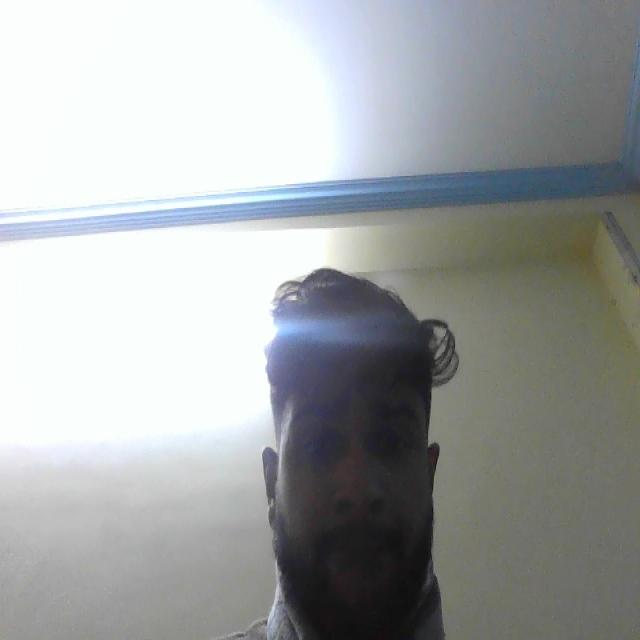real: (257, 264, 450, 628)
